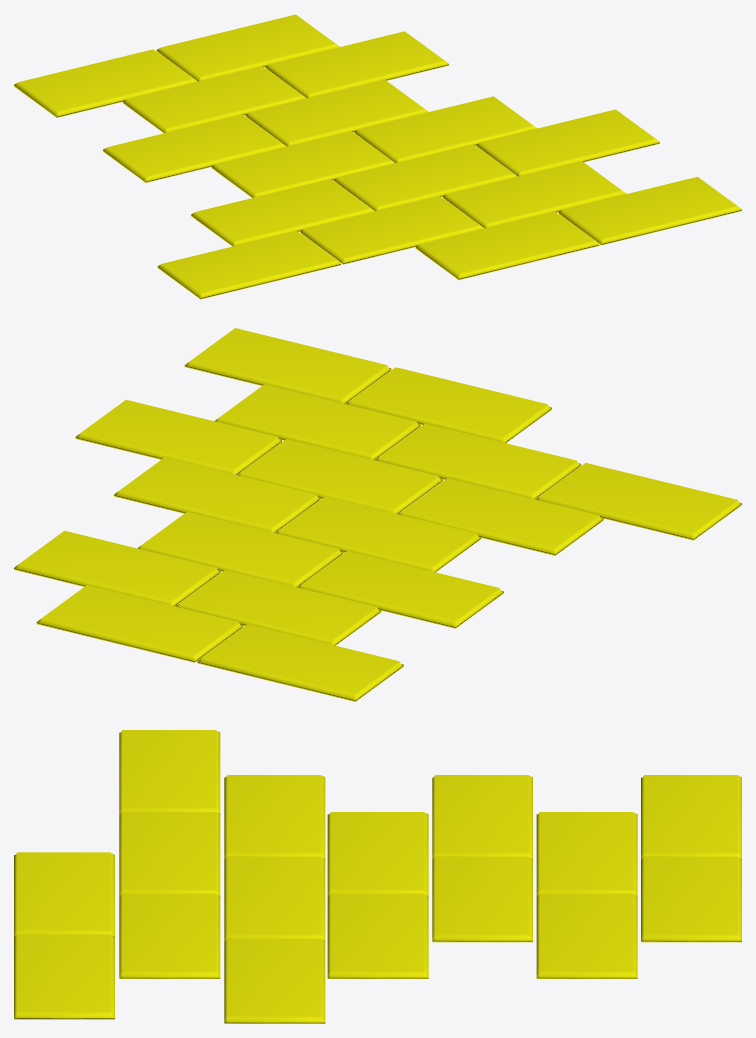
File: Suelo01.fbx
3 renders of one model, top to bottom at view 1: azimuth 30°, elevation 25°; view 2: azimuth 150°, elevation 25°; view 3: azimuth 270°, elevation 25°, orthographic. The views are drawn at different scales.
Parts seen in each view (by area): view 1: Suelo01; view 2: Suelo01; view 3: Suelo01.
Part boxes in pixels (<box>): Suelo01: <box>14,14,741,299</box>; Suelo01: <box>14,328,741,701</box>; Suelo01: <box>14,730,741,1023</box>.
Bounding box in the file's own units: 1705 × 16.95 × 1814.
